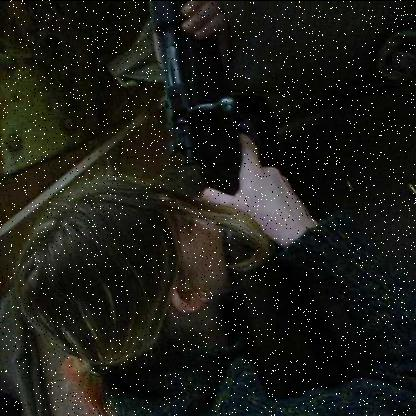rifle: (116, 1, 375, 400)
